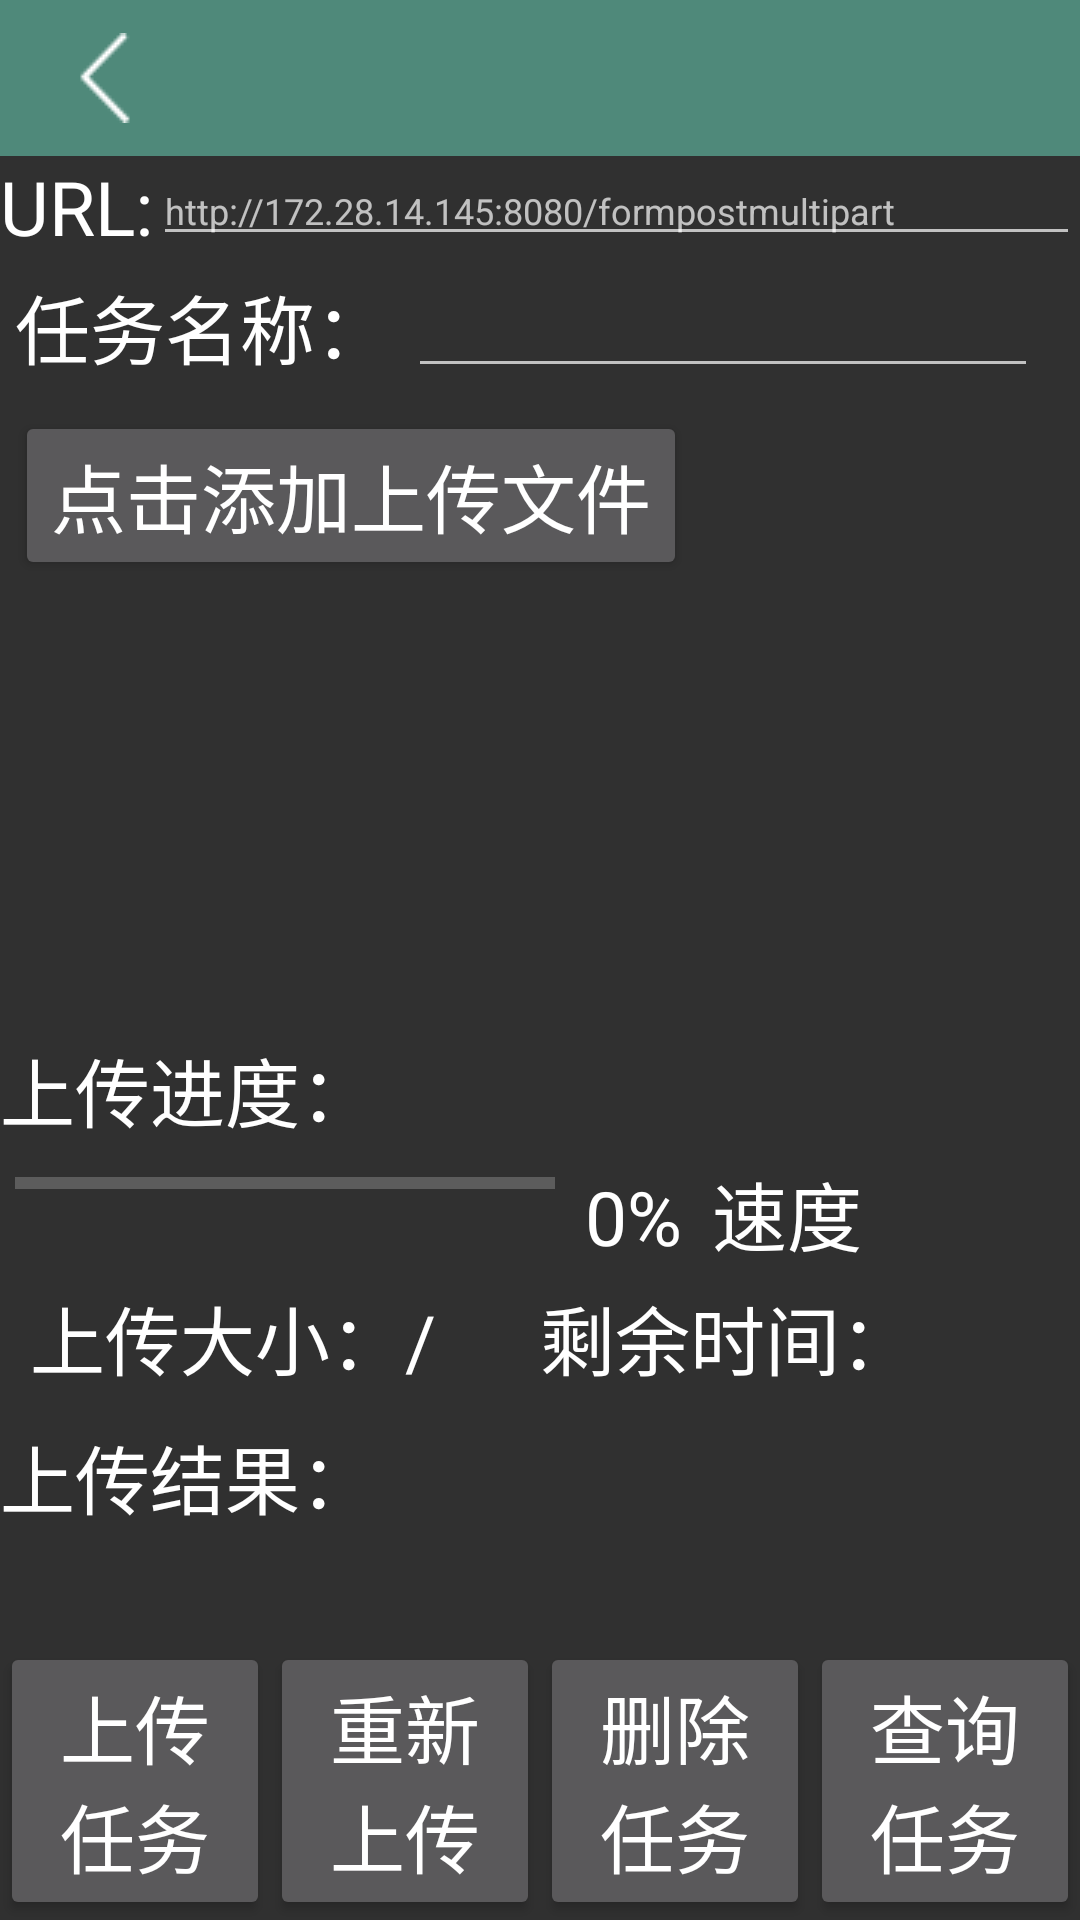

Icon click points for this 1080x1920 phone screenshot, format (x,y):
back: (105,78)
